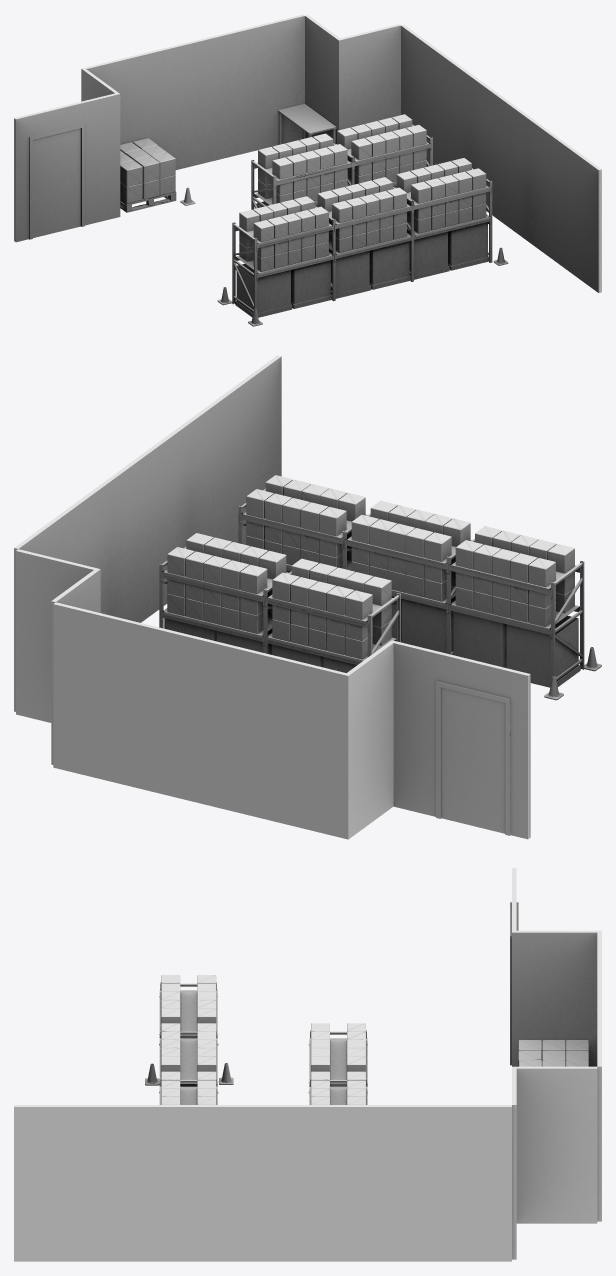
File: warehouse.glb
The picture shows the model from 3 angles, top to bottom: view 1: azimuth 30°, elevation 25°; view 2: azimuth 150°, elevation 25°; view 3: azimuth 270°, elevation 25°; orthographic projection. The views are drawn at different scales.
Parts seen in each view (by area): view 1: Target; view 2: Target; view 3: Target.
Part boxes in pixels (box(x1,y1,x2,y2)): Target: box(14, 14, 601, 326); Target: box(14, 355, 601, 839); Target: box(14, 868, 601, 1261).
Size of the model in its own units: 11.9 by 3.6 by 12.4.
Materials: 1 (1 with a texture image).
